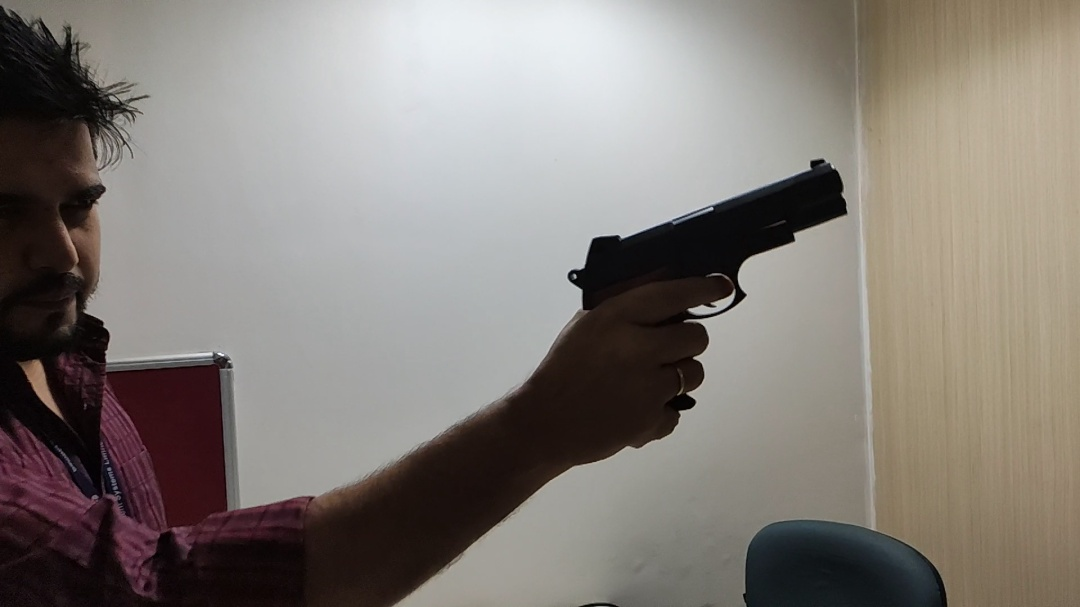gun: (566, 156, 852, 412)
